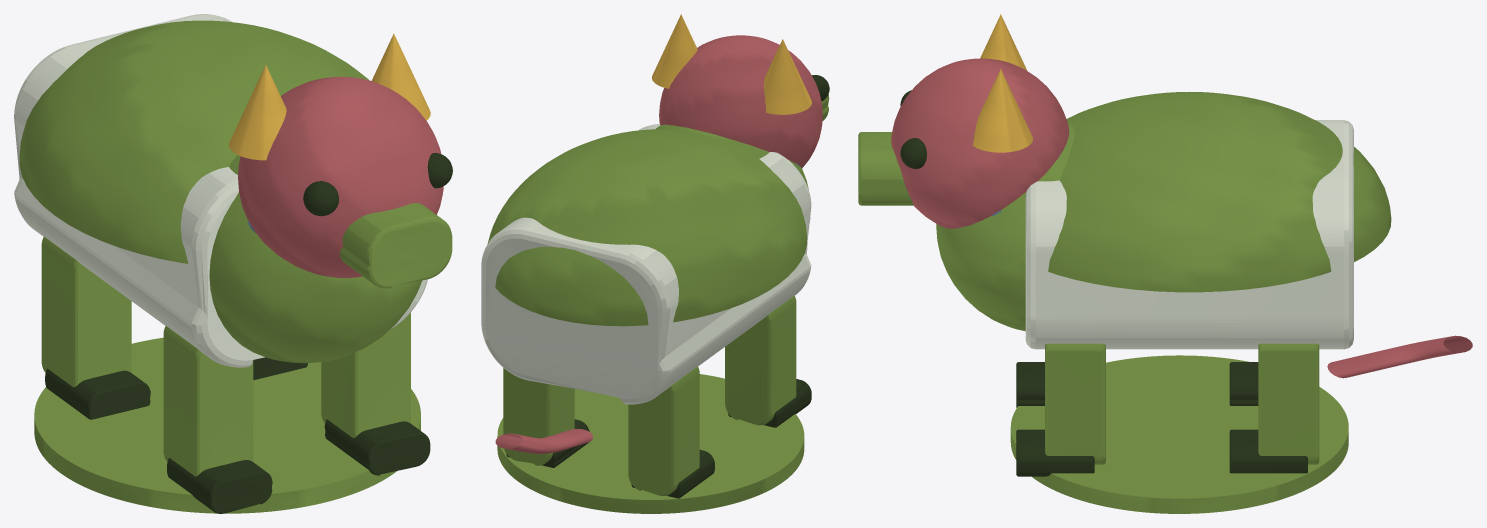
Rendered from 1281_爬行动物图鉴_箱龟.glb.
The picture shows the model from 3 angles, left to right: view 1: azimuth 30°, elevation 25°; view 2: azimuth 150°, elevation 25°; view 3: azimuth 270°, elevation 25°; orthographic projection. The views are drawn at different scales.
Parts seen in each view (by area): view 1: card_1281; view 2: card_1281; view 3: card_1281.
Part boxes in pixels (<box>): card_1281: <box>14,14,452,513</box>; card_1281: <box>481,14,829,513</box>; card_1281: <box>858,14,1472,513</box>.
Bounding box in the file's own units: 0.7654 × 1 × 1.39.
